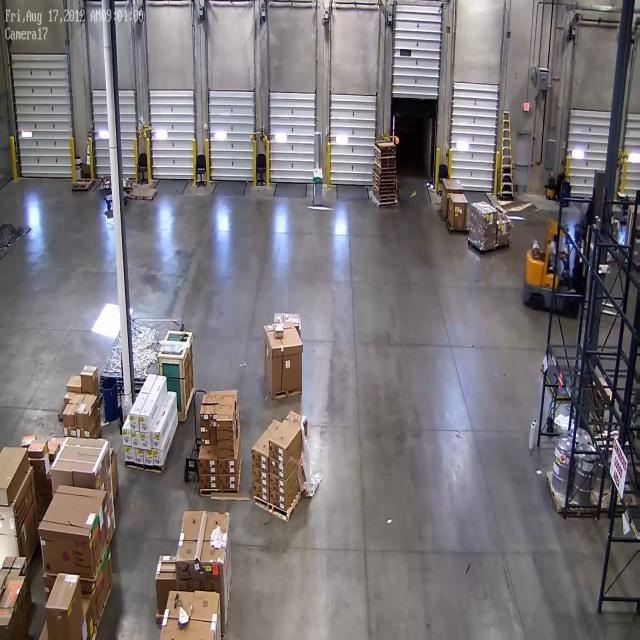human: (554, 235, 568, 292)
product 1: (59, 436, 120, 545), (52, 487, 107, 573), (180, 510, 234, 590), (1, 469, 38, 562), (263, 319, 304, 398), (162, 594, 216, 639), (442, 176, 462, 209), (470, 226, 494, 253), (471, 201, 492, 231), (109, 446, 123, 490), (450, 198, 468, 229), (271, 314, 301, 332), (498, 224, 512, 247)
product 2: (271, 326, 286, 339)
product 3: (129, 411, 139, 430), (122, 428, 131, 448), (130, 415, 140, 431), (140, 433, 149, 450), (151, 432, 160, 448), (126, 448, 135, 464), (140, 421, 151, 434), (142, 452, 152, 466), (154, 450, 163, 465), (132, 433, 140, 449), (136, 452, 144, 463)
product 4: (80, 359, 100, 397), (40, 476, 53, 518), (268, 442, 290, 462), (199, 448, 217, 472), (217, 406, 233, 430), (269, 457, 286, 479), (251, 444, 268, 466), (270, 473, 286, 495), (82, 392, 92, 427), (217, 458, 237, 475), (252, 483, 268, 503), (34, 455, 50, 475), (31, 440, 46, 461), (270, 492, 288, 509), (84, 392, 98, 413), (67, 372, 81, 392), (252, 467, 268, 484), (200, 474, 217, 490), (218, 474, 235, 490), (63, 399, 74, 423), (496, 201, 509, 220), (218, 446, 235, 459), (217, 441, 235, 452), (94, 410, 104, 429), (217, 431, 234, 442), (21, 436, 36, 448), (62, 428, 78, 439), (78, 427, 92, 438), (48, 440, 55, 461), (202, 394, 218, 403), (200, 404, 210, 418), (220, 396, 235, 405), (62, 393, 81, 400), (199, 421, 209, 431), (201, 434, 209, 444), (210, 405, 217, 416), (210, 434, 216, 446), (210, 422, 216, 432)
product 5: (50, 572, 82, 640), (4, 550, 34, 605), (1, 444, 28, 504), (88, 554, 114, 612), (5, 570, 32, 621), (156, 552, 177, 593), (0, 610, 27, 640), (80, 598, 98, 635), (0, 572, 7, 608)
